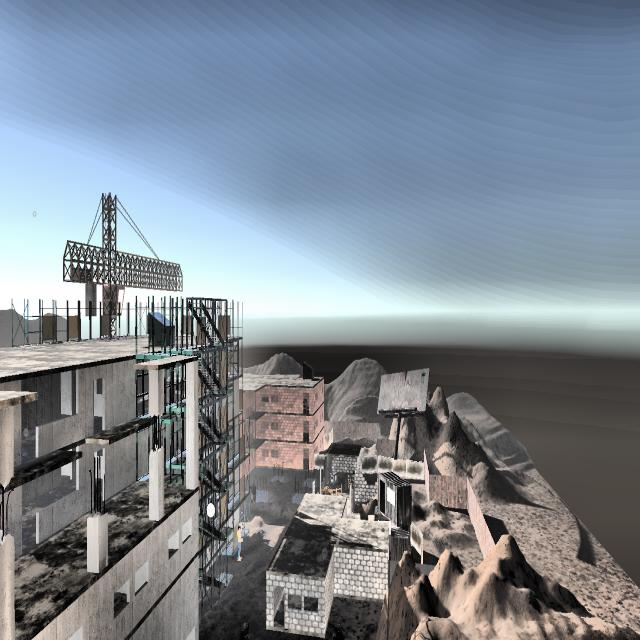bad: (235, 618, 255, 640), (249, 477, 258, 517), (330, 625, 348, 640)
good: (234, 518, 247, 569)
